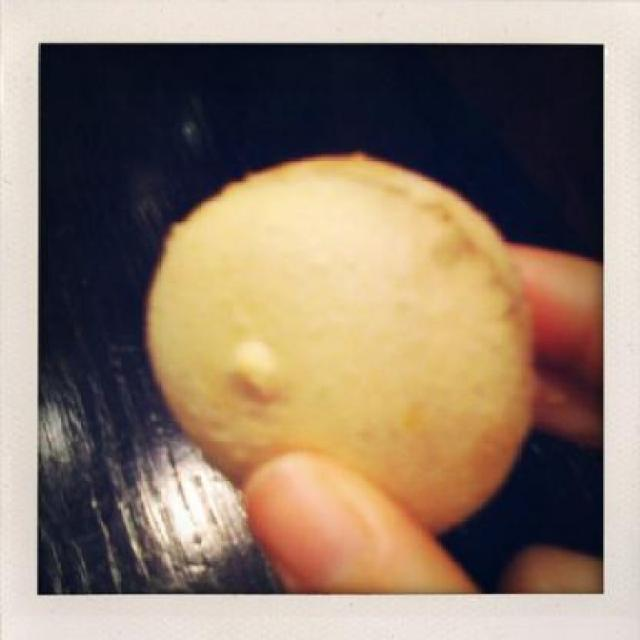Macaron: (116, 142, 570, 578)
